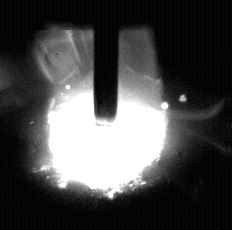arame: (95, 0, 119, 123)
poca: (50, 0, 166, 230)
